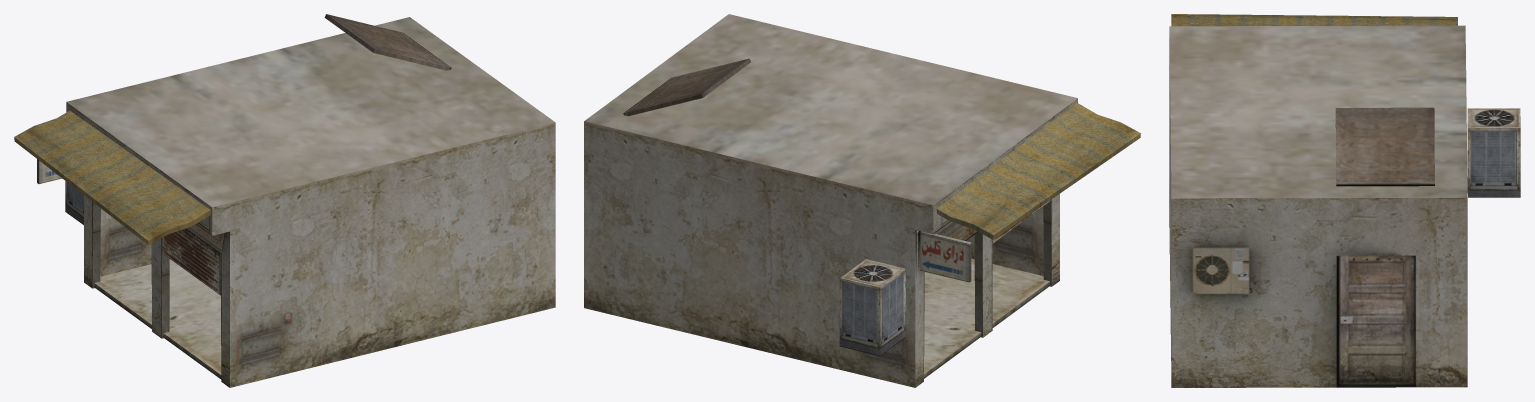
The model's file is building03.fbx.
3 renders of one model, left to right at view 1: azimuth 30°, elevation 25°; view 2: azimuth 150°, elevation 25°; view 3: azimuth 270°, elevation 25°, orthographic. The views are drawn at different scales.
Visible parts, largest first — view 1: polySurface7; view 2: polySurface7; view 3: polySurface7.
Part boxes in pixels (box(x1,y1,x2,y2)): polySurface7: box(14, 14, 555, 387); polySurface7: box(584, 14, 1140, 387); polySurface7: box(1169, 14, 1520, 387).
Bounding box in the file's own units: 722 × 379 × 526.
